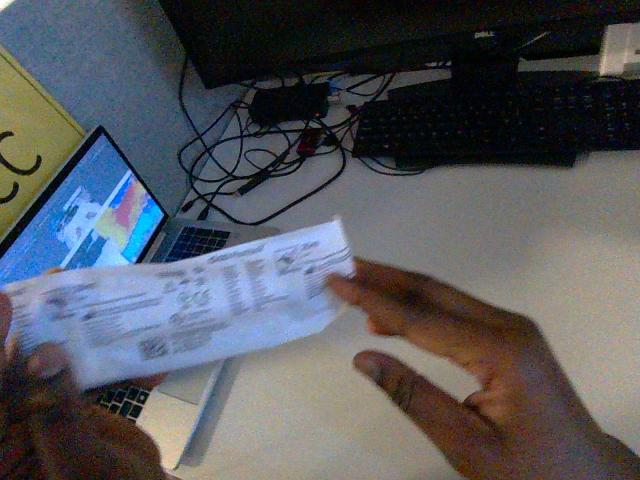syringe: (7, 218, 354, 388)
